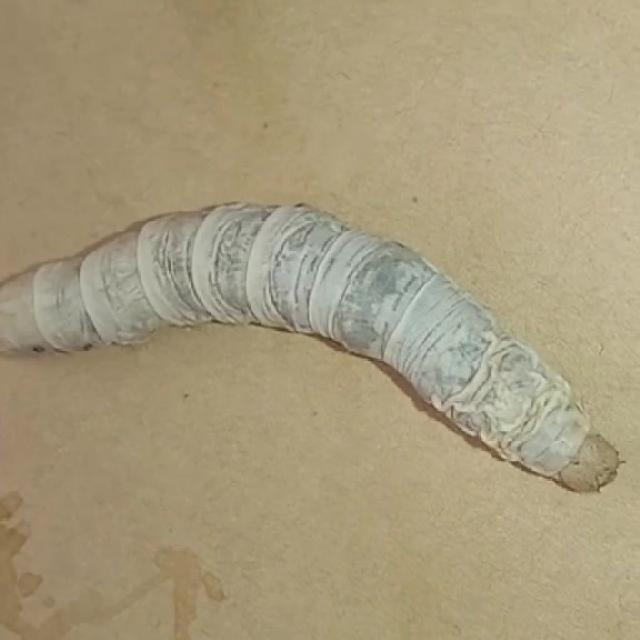Grasserie: (0, 157, 640, 531)
